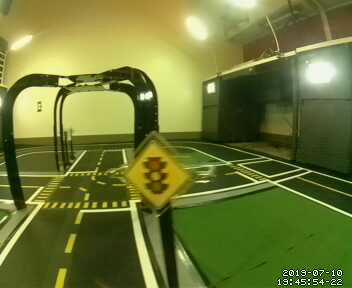Traffic light sign: (127, 138, 188, 213)
